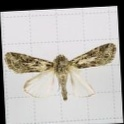Spodoptera litura: (4, 44, 118, 101)
